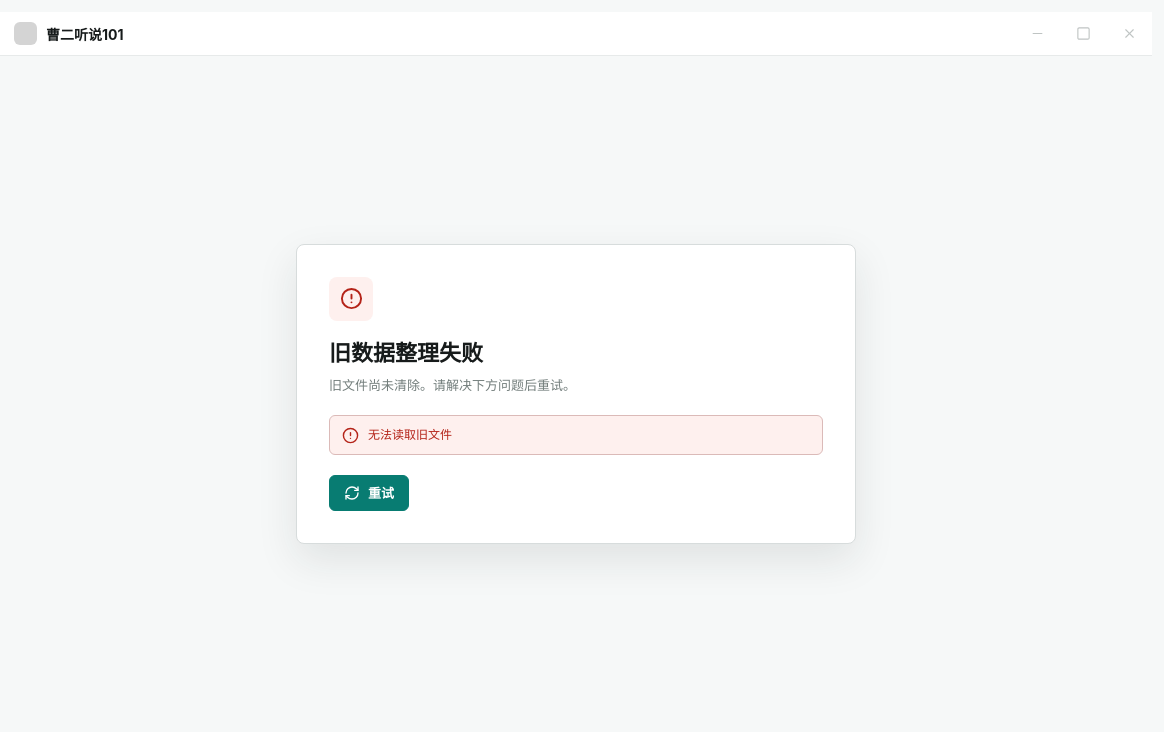
Scenario: LegacyDataMigrationPage › keeps the blocking page open and offers retry after archival failure
Expected: the heading "旧数据整理失败" is shown, [329, 340, 483, 366]
Expected: the message reads "无法读取旧文件", [368, 427, 452, 442]
Click the button "重试" at (369, 493), box [329, 475, 409, 511]
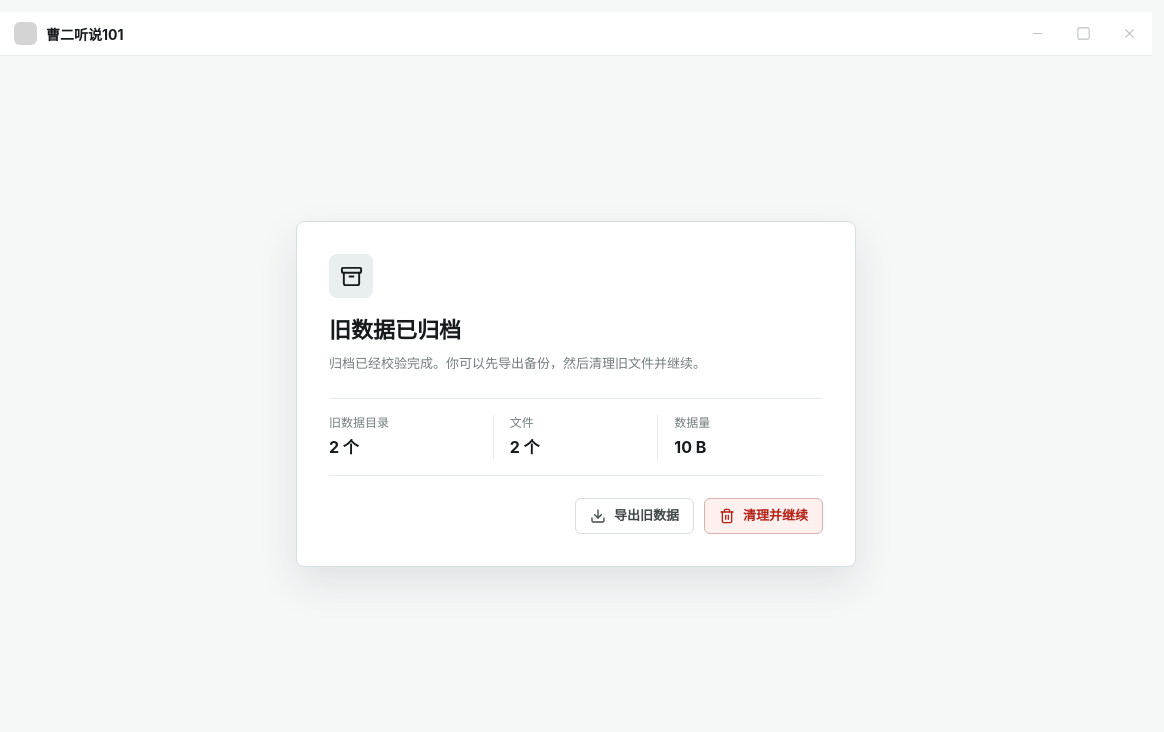
Expected: the heading "旧数据已归档" is shown, [329, 317, 461, 343]
